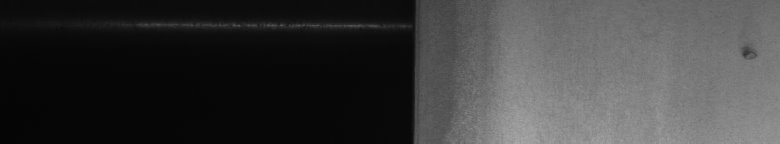fi: (736, 40, 758, 64)
